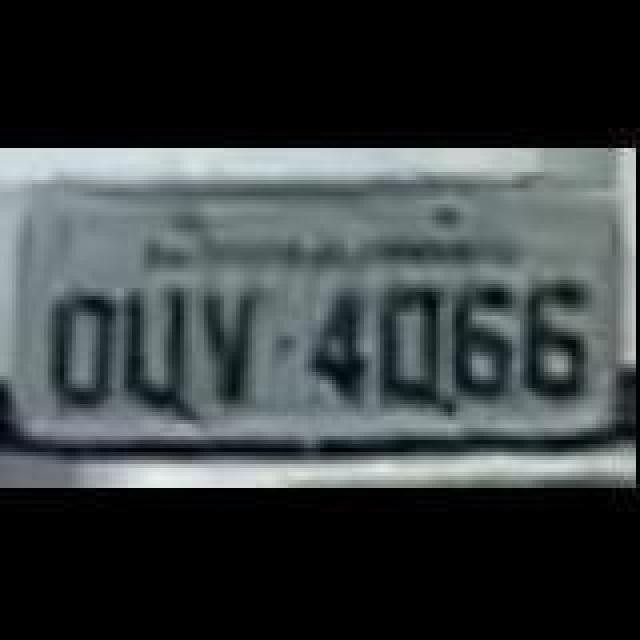4: (302, 284, 370, 404)
6: (444, 282, 524, 406), (526, 276, 594, 404)
O: (50, 288, 118, 408), (384, 280, 448, 400)
U: (112, 290, 192, 414)
V: (200, 284, 264, 412)
